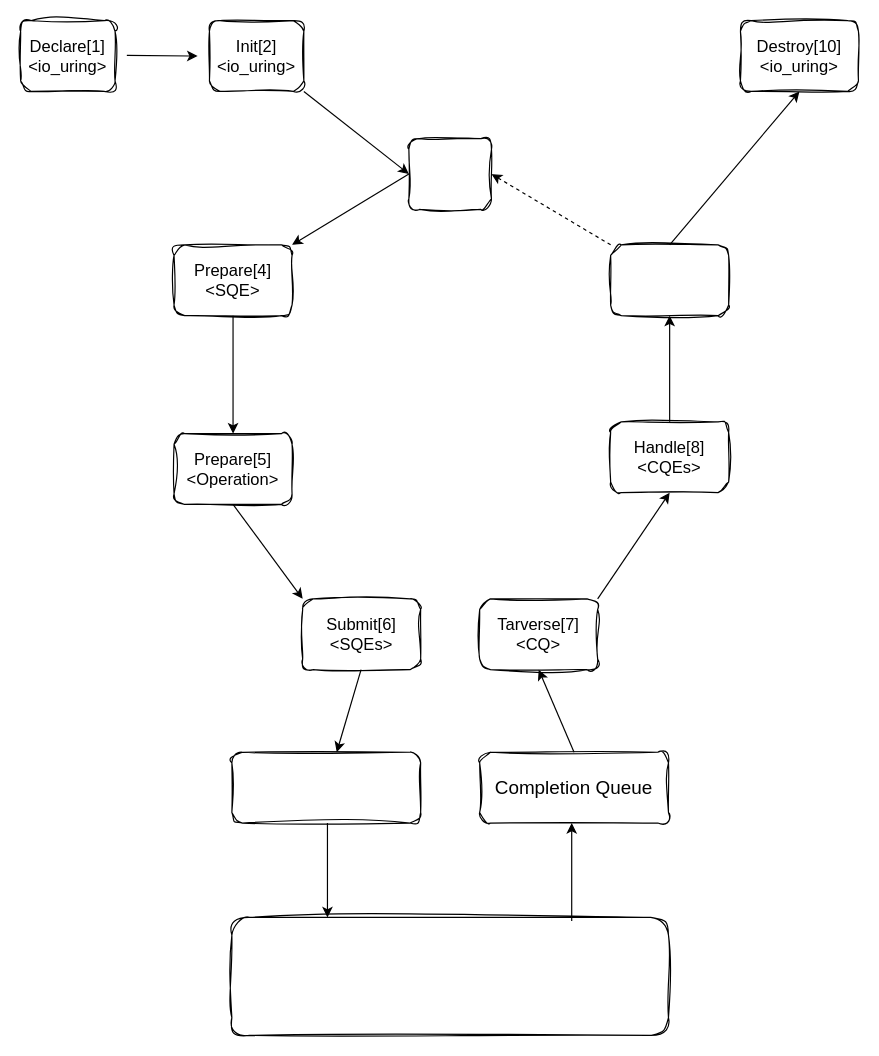
Some shapes in this 879 by 1056 pixel diagram are drawn without their labels. The centre of each missing label's shape, as x and y in pixels:
1. Kernel consume SQEs from the queue. 2. Kernel produce CQEs into the queue.: point 449,975
Get[3] <SQE>: point 449,173
Release[9] <CQE>: point 669,280
Submission Queue: point 326,787
